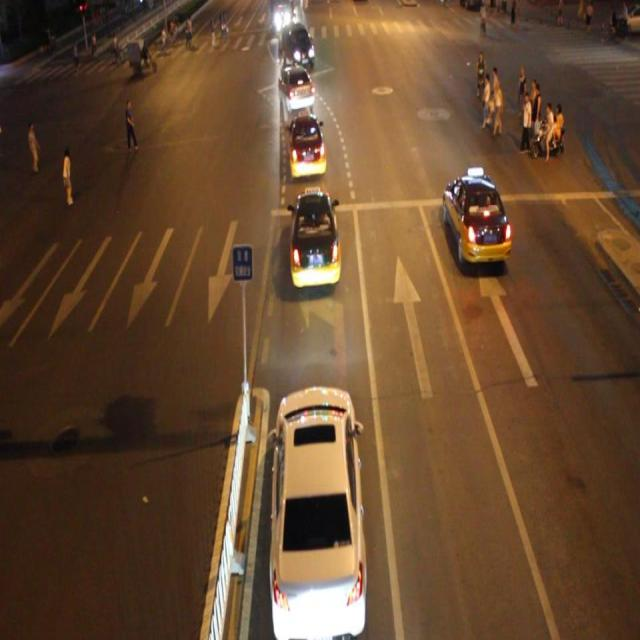car: (271, 384, 364, 640), (443, 174, 509, 264), (288, 192, 340, 288), (286, 113, 326, 179), (277, 20, 313, 66), (278, 67, 314, 113)
